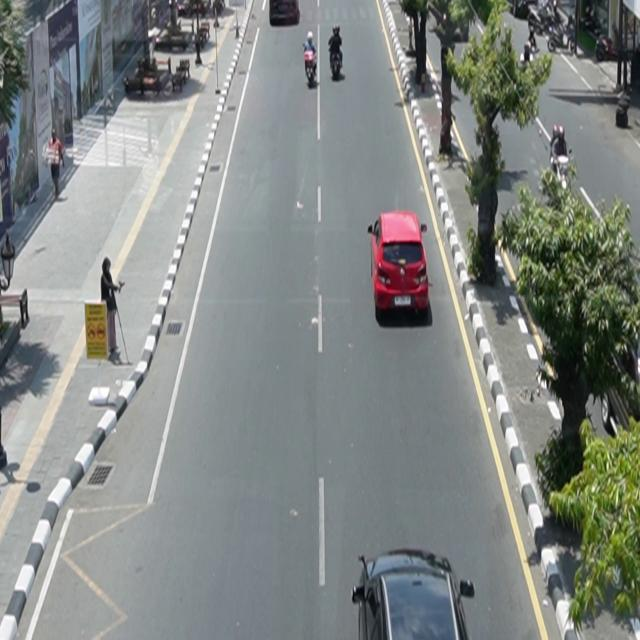car: (352, 548, 476, 640), (368, 211, 430, 317), (269, 1, 301, 26)
